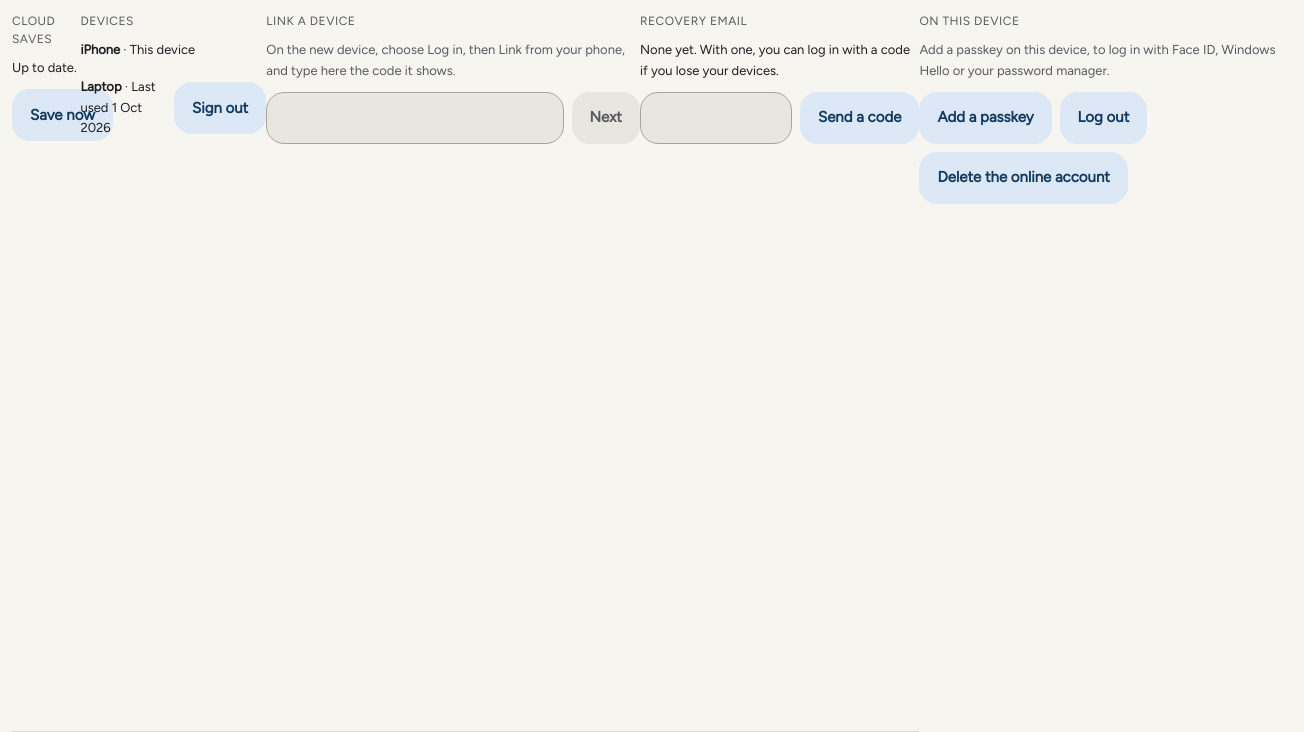
Settings → Cloud saves › sets the recovery email with the code sent to it
This screenshot has width=1304, height=732.
Expected: the text "None yet" is shown, [640, 42, 910, 78]
Type "me@example.com" into the field named "Email address" at (716,118), box [640, 92, 792, 144]
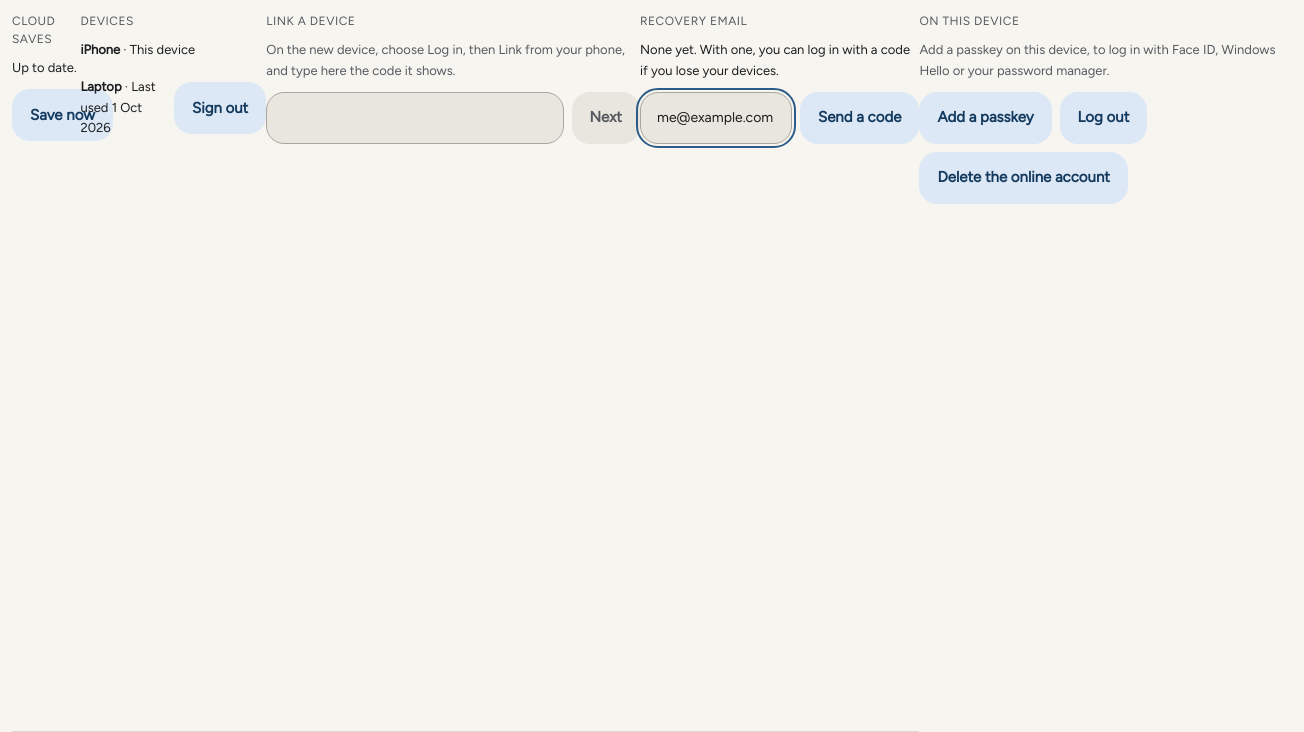
Click the button "Send a code" at (860,118), box [800, 92, 919, 144]
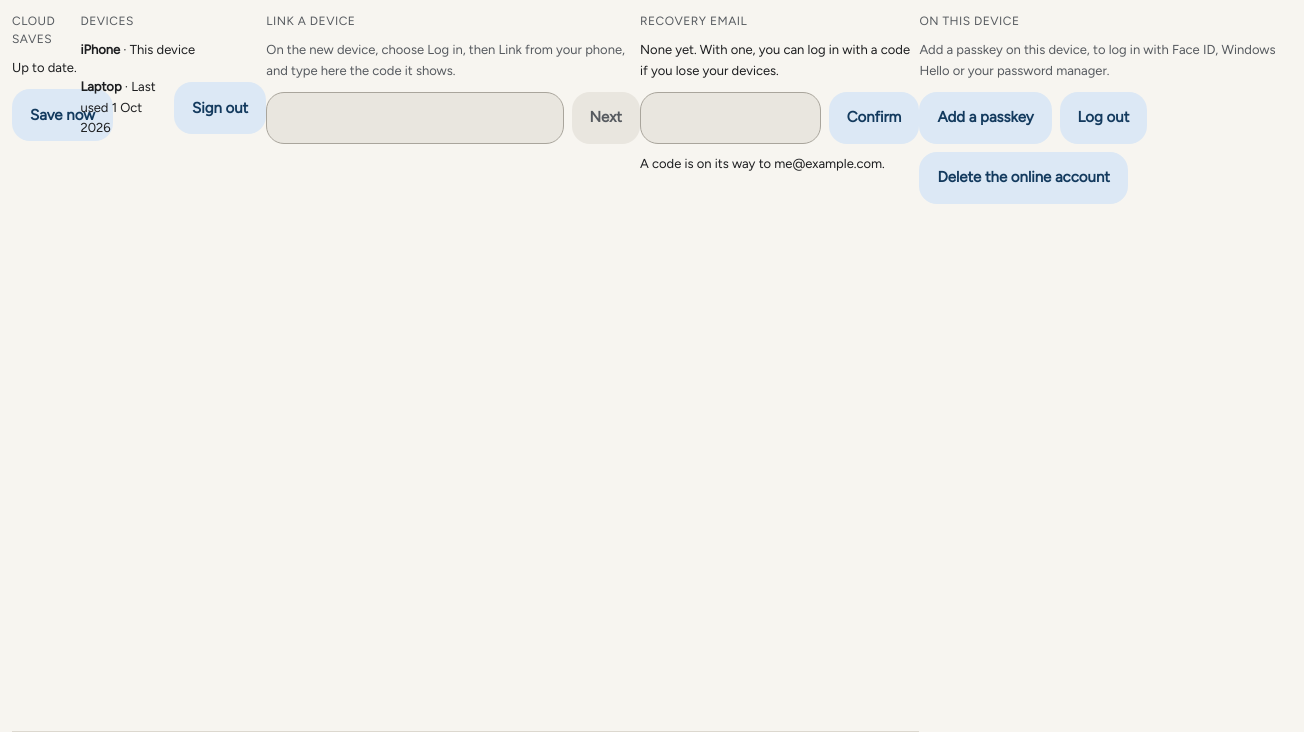
Type "123456" into the field named "Code from the email" at (730,118), box [640, 92, 821, 144]
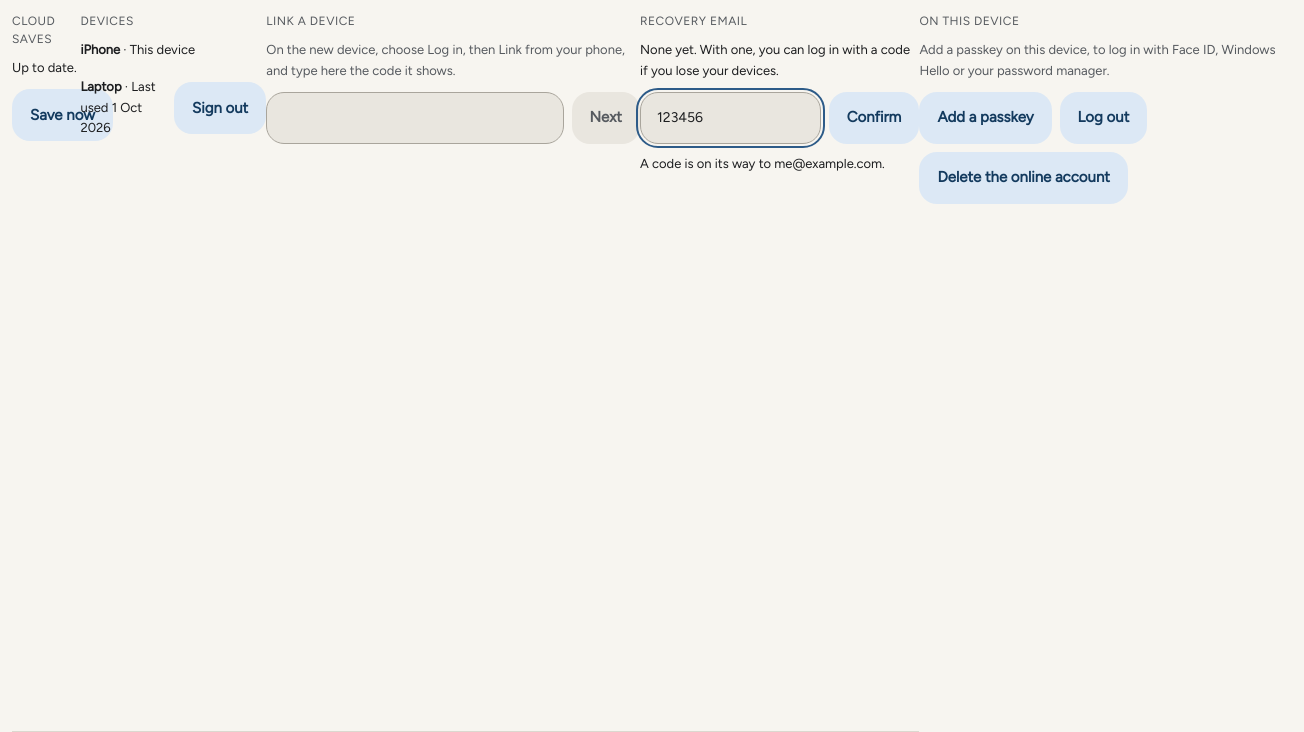
Click the button "Confirm" at (874,118), box [829, 92, 919, 144]
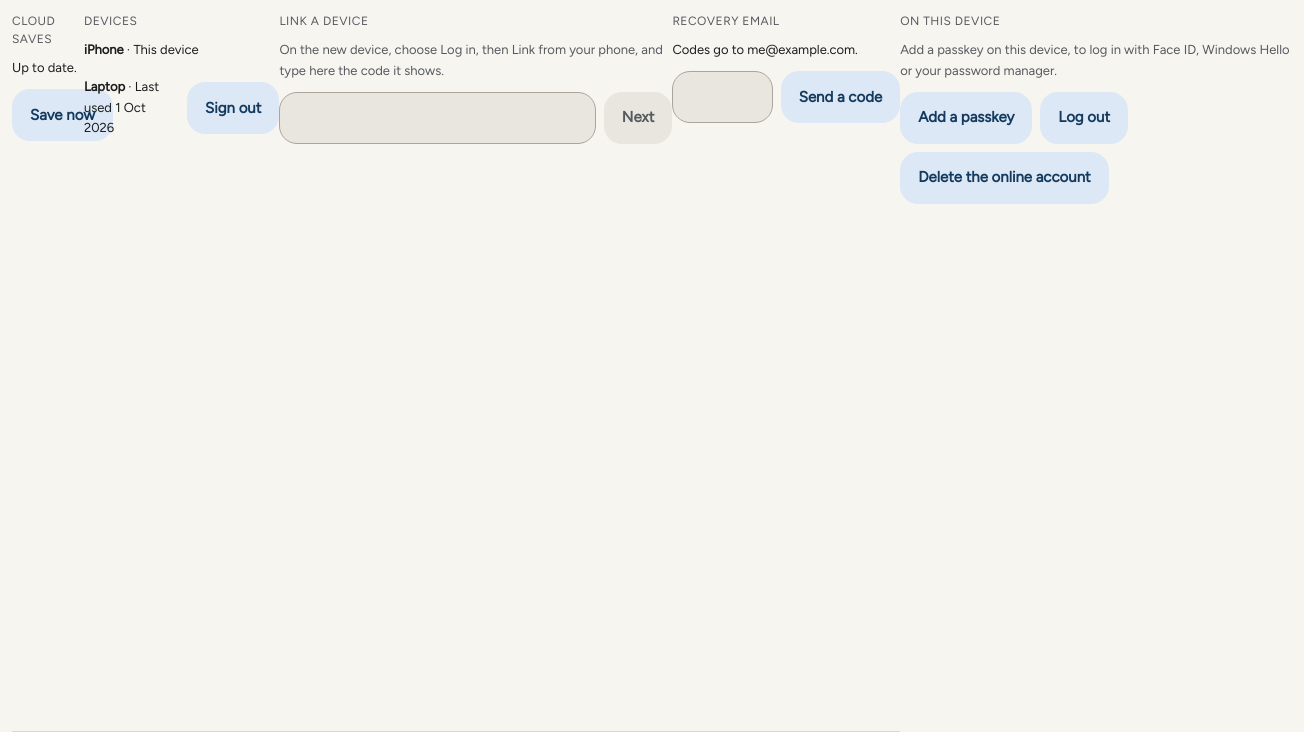
Expected: the text "Codes go to me@example.com." is shown, [672, 42, 858, 57]
